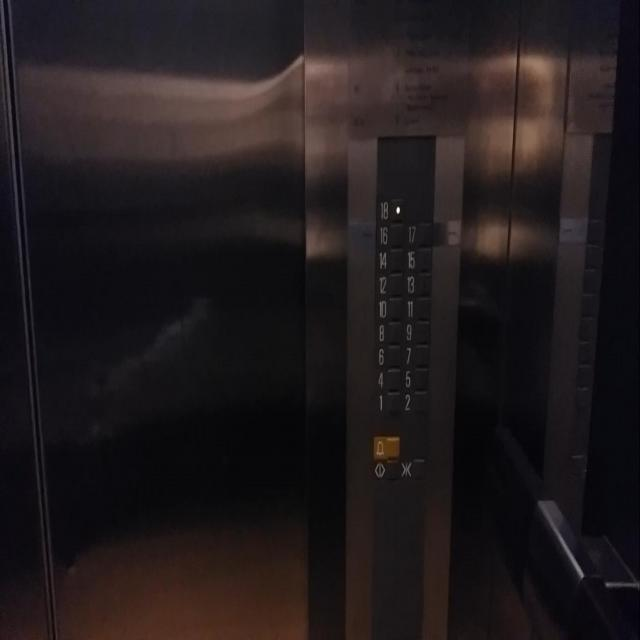1: (368, 389, 402, 416)
10: (372, 296, 402, 323)
11: (403, 294, 431, 324)
12: (372, 270, 403, 298)
13: (403, 269, 432, 299)
14: (373, 246, 404, 274)
15: (404, 244, 434, 274)
16: (374, 220, 404, 250)
17: (403, 219, 433, 249)
18: (374, 194, 405, 225)
2: (401, 388, 430, 416)
4: (369, 366, 401, 393)
5: (402, 364, 429, 393)
6: (370, 342, 402, 372)
7: (403, 340, 430, 370)
8: (371, 320, 403, 347)
9: (403, 318, 430, 346)
alarm: (372, 434, 400, 460)
close: (400, 457, 426, 481)
open: (372, 456, 399, 482)
